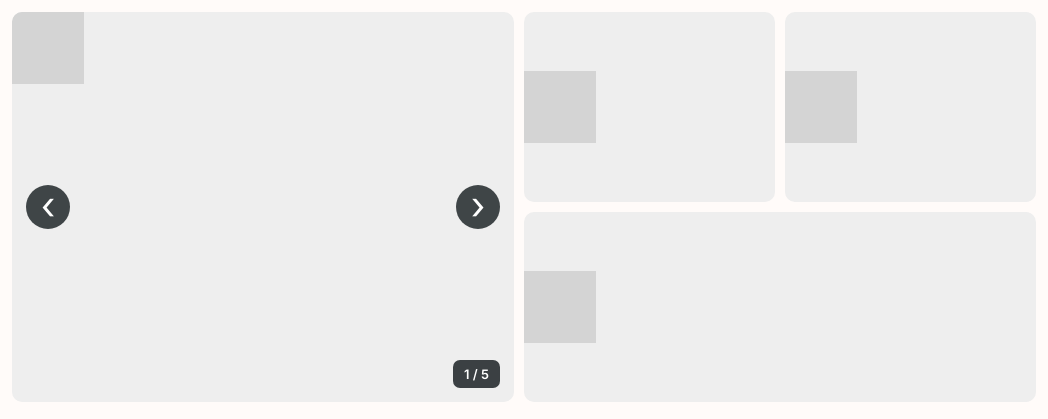
Test: AccommodationCarousel › permet de sélectionner directement une photo avec une miniature
The width and height of the screenshot is (1048, 419).
Click the button named "Afficher la photo 4 sur 5" at (560, 307), box [524,212,1036,402]
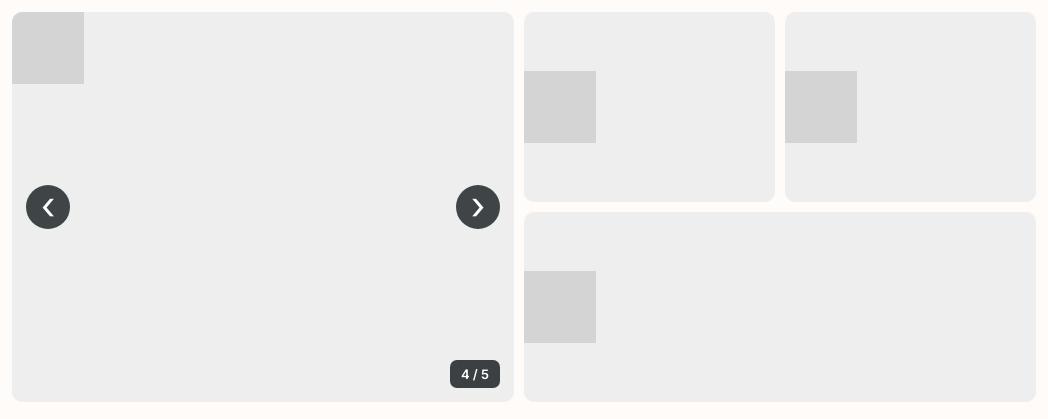
Check: the text "4 / 5" is shown, box [450,360,500,388]
